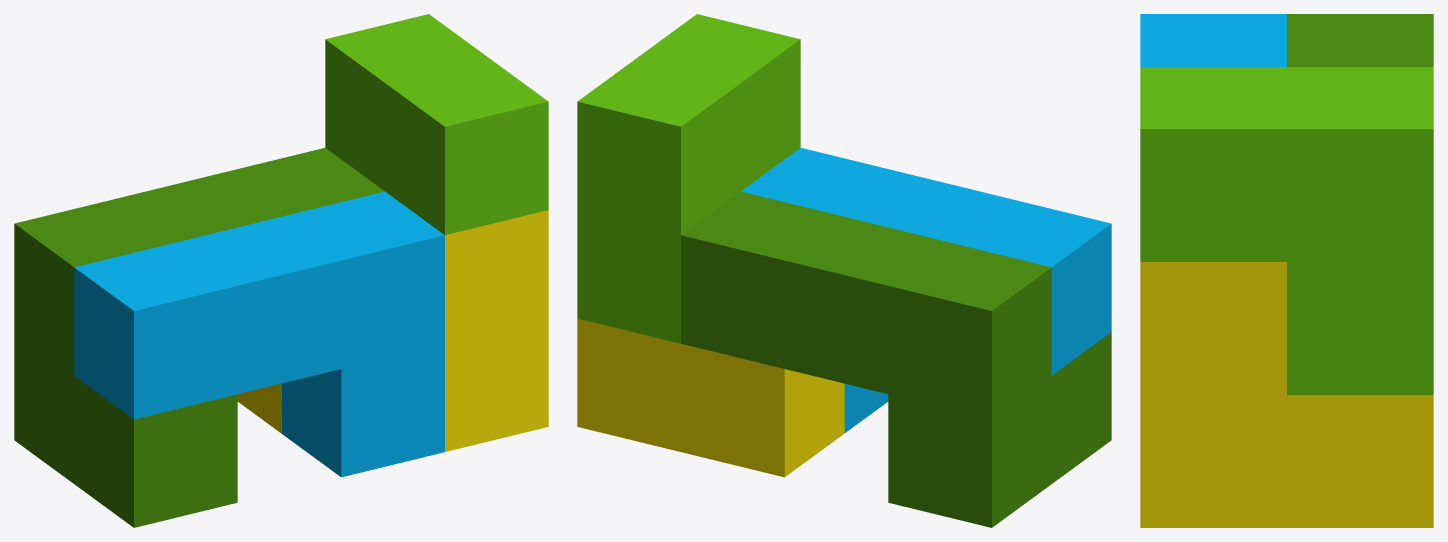
The picture shows the model from 3 angles, left to right: view 1: azimuth 30°, elevation 25°; view 2: azimuth 150°, elevation 25°; view 3: azimuth 270°, elevation 25°; orthographic projection. The views are drawn at different scales.
Visible parts, largest first — view 1: mergedBlocks(Clone); view 2: mergedBlocks(Clone); view 3: mergedBlocks(Clone).
Boxes of the visible parts, <box> form: mergedBlocks(Clone): <box>14,14,548,527</box>; mergedBlocks(Clone): <box>577,14,1111,527</box>; mergedBlocks(Clone): <box>1140,14,1433,527</box>.
Size of the model in its own units: 4 by 3 by 2.
Materials: 4 (4 with a texture image).
